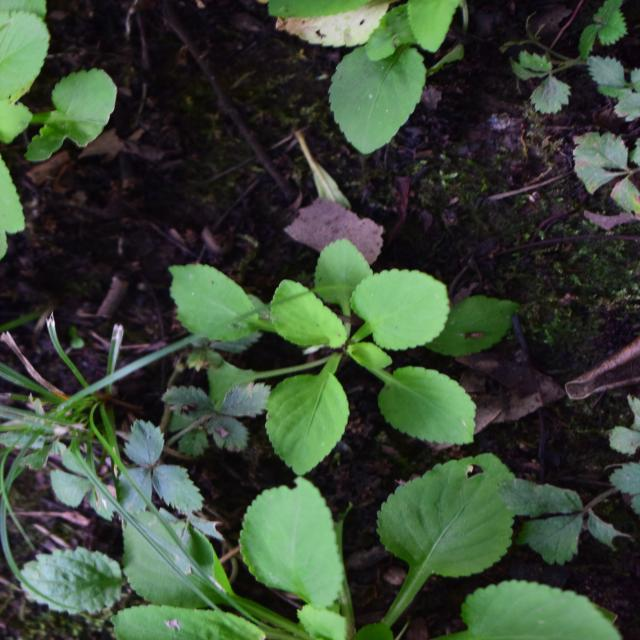Viola: (171, 187, 430, 500)
